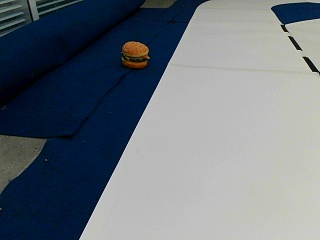burger: (121, 39, 149, 68)
